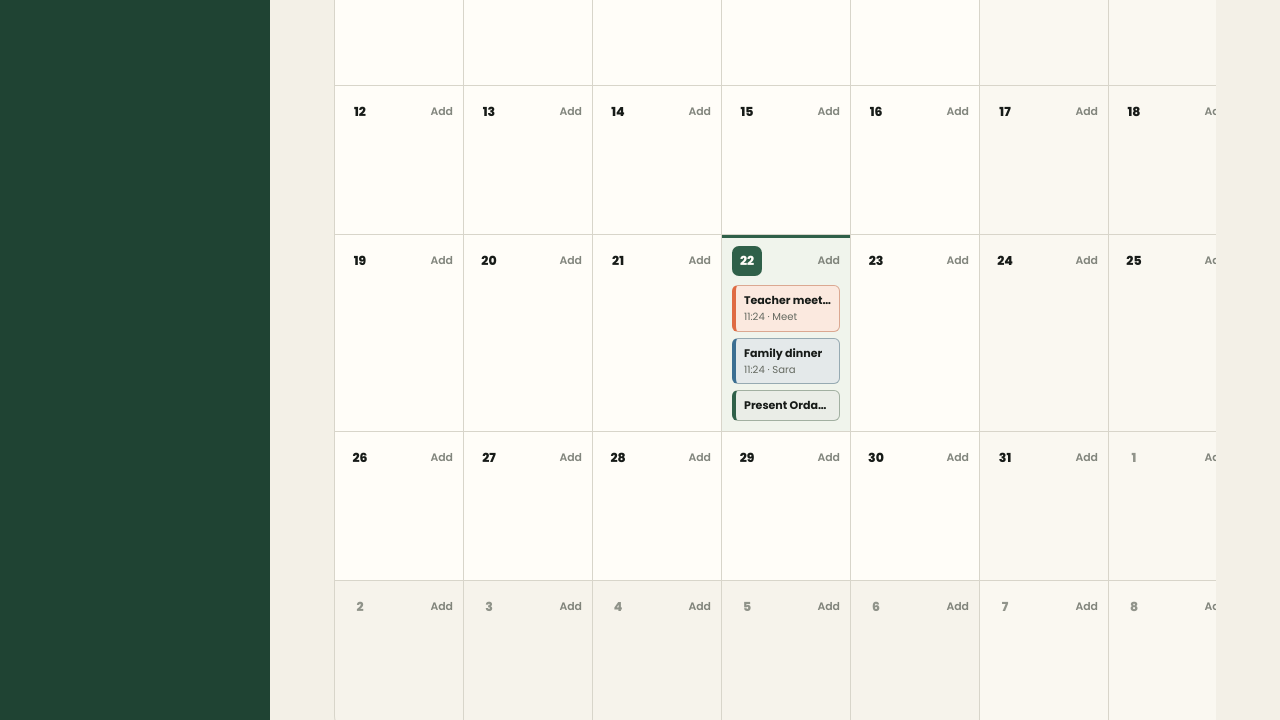
Test: Calendar › opens events created by other members as read-only
(page scrolled)
Click the button "Family dinner 11:24 · Sara" at [786, 361], box [732,338,840,384]
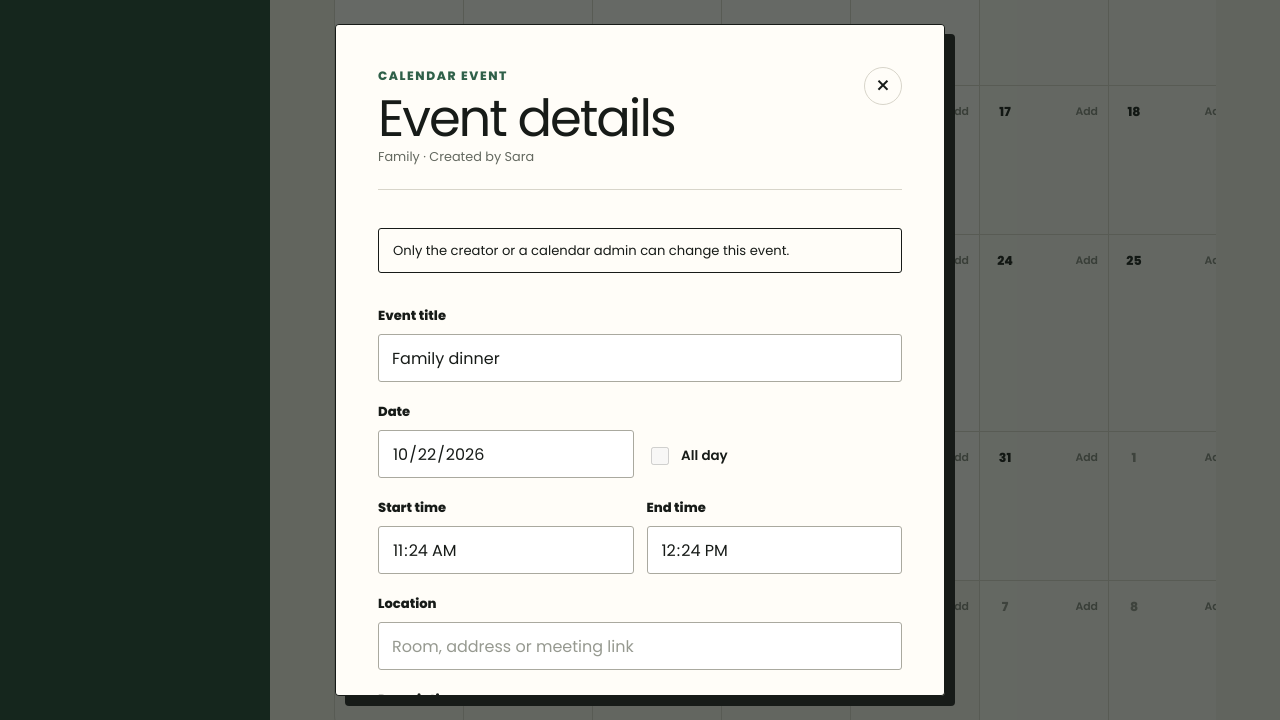
Now the heading "Event details" is shown, box [378,93,675,144]
Now the text "Family · Created by Sara" is shown, box [378,148,534,165]
Now the field labelled "Event title" is disabled, box [378,334,902,382]
